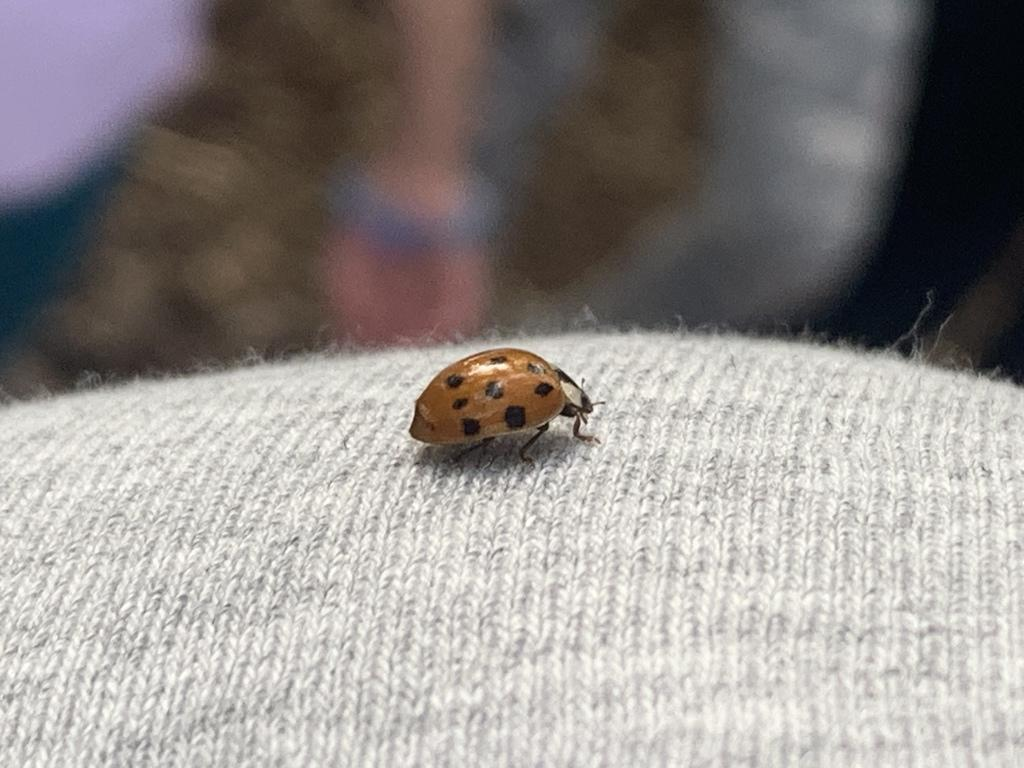ladybug: (407, 347, 611, 469)
